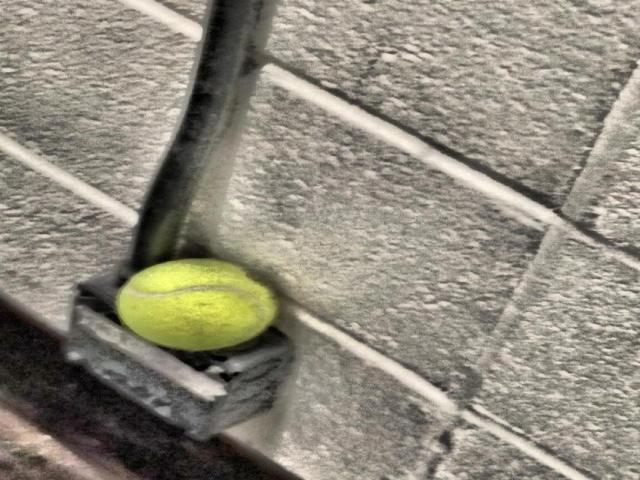tennis-ball: (119, 256, 278, 356)
